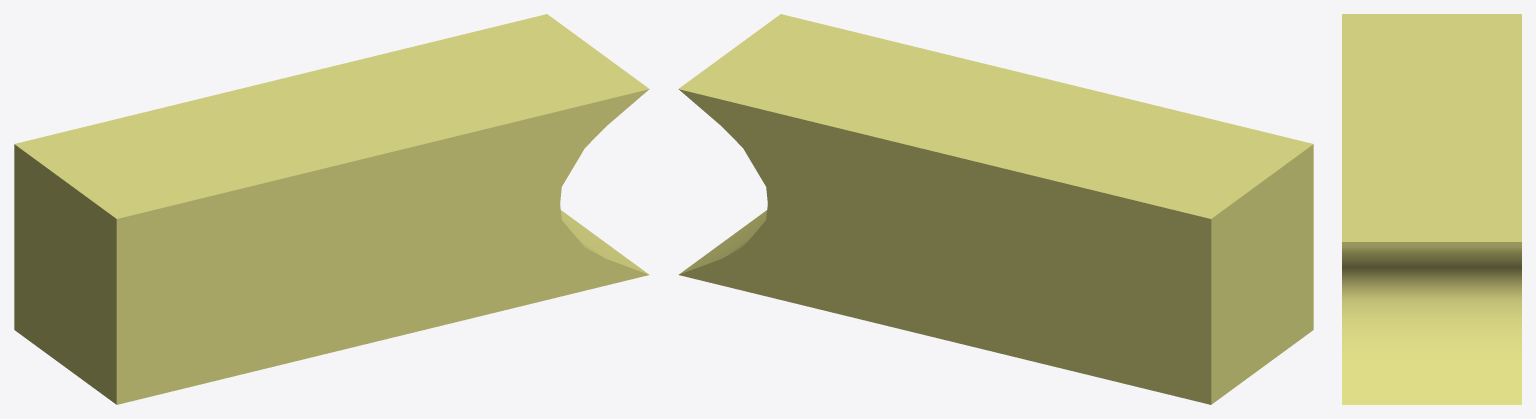
3 renders of one model, left to right at view 1: azimuth 30°, elevation 25°; view 2: azimuth 150°, elevation 25°; view 3: azimuth 270°, elevation 25°, orthographic. The views are drawn at different scales.
Visible parts, largest first — view 1: pCube1; view 2: pCube1; view 3: pCube1.
Part boxes in pixels (x1,y1,x2,y2): pCube1: (14, 14, 649, 404); pCube1: (678, 14, 1313, 404); pCube1: (1342, 14, 1521, 404).
Size of the model in its own units: 3 by 1 by 1.
